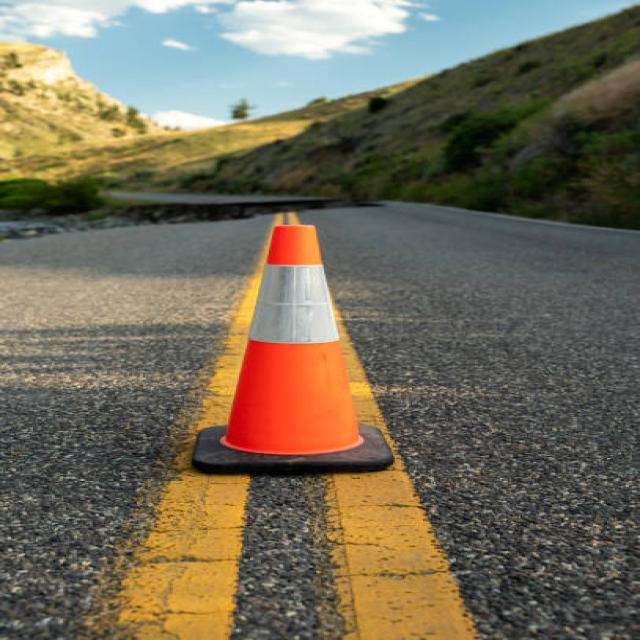Traffic Cone: (165, 212, 448, 503)
